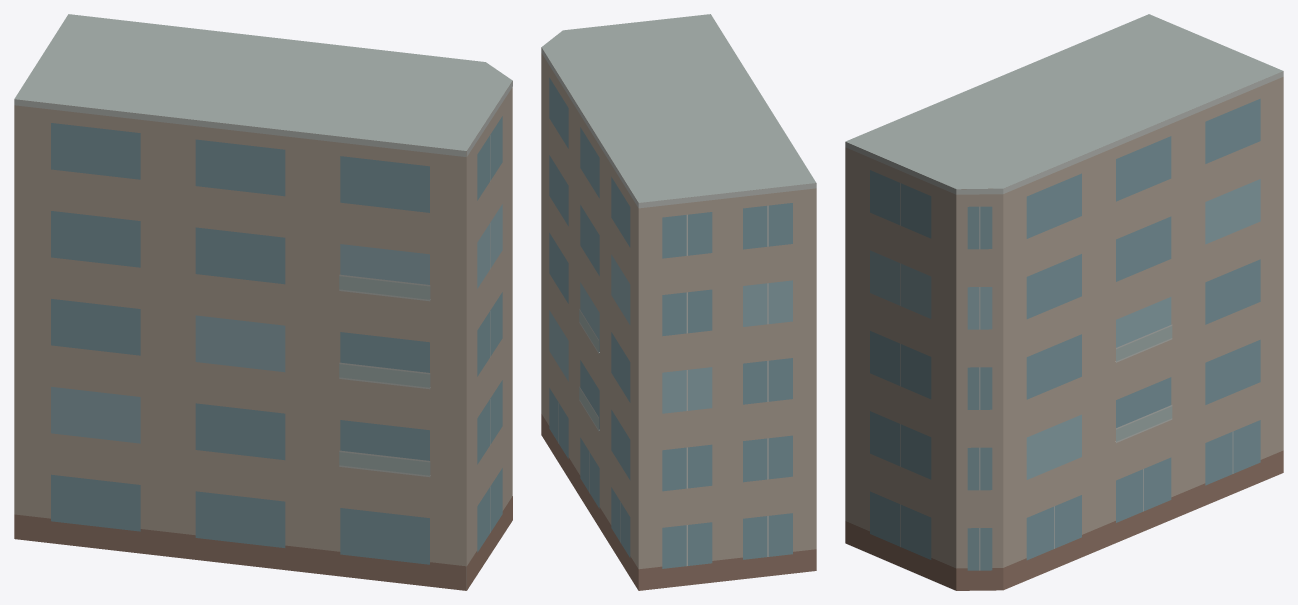
File: survey-upis-32990666.glb
3 renders of one model, left to right at view 1: azimuth 30°, elevation 25°; view 2: azimuth 150°, elevation 25°; view 3: azimuth 270°, elevation 25°, orthographic. The views are drawn at different scales.
Parts seen in each view (by area): view 1: survey-upis-32990666.tmp; view 2: survey-upis-32990666.tmp; view 3: survey-upis-32990666.tmp.
Part boxes in pixels (bbox=[...]): survey-upis-32990666.tmp: bbox=[14, 14, 512, 590]; survey-upis-32990666.tmp: bbox=[541, 14, 816, 590]; survey-upis-32990666.tmp: bbox=[845, 14, 1283, 590].
Size of the model in its own units: 16.42 by 17.55 by 17.37.
